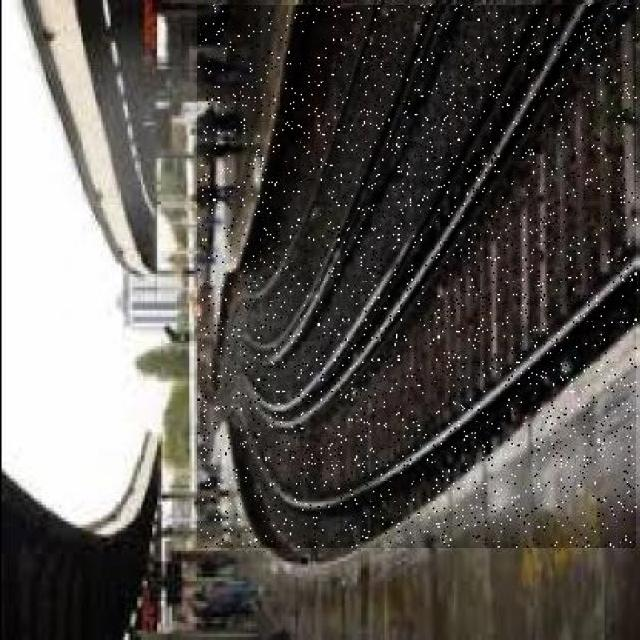rail: (199, 6, 637, 549)
